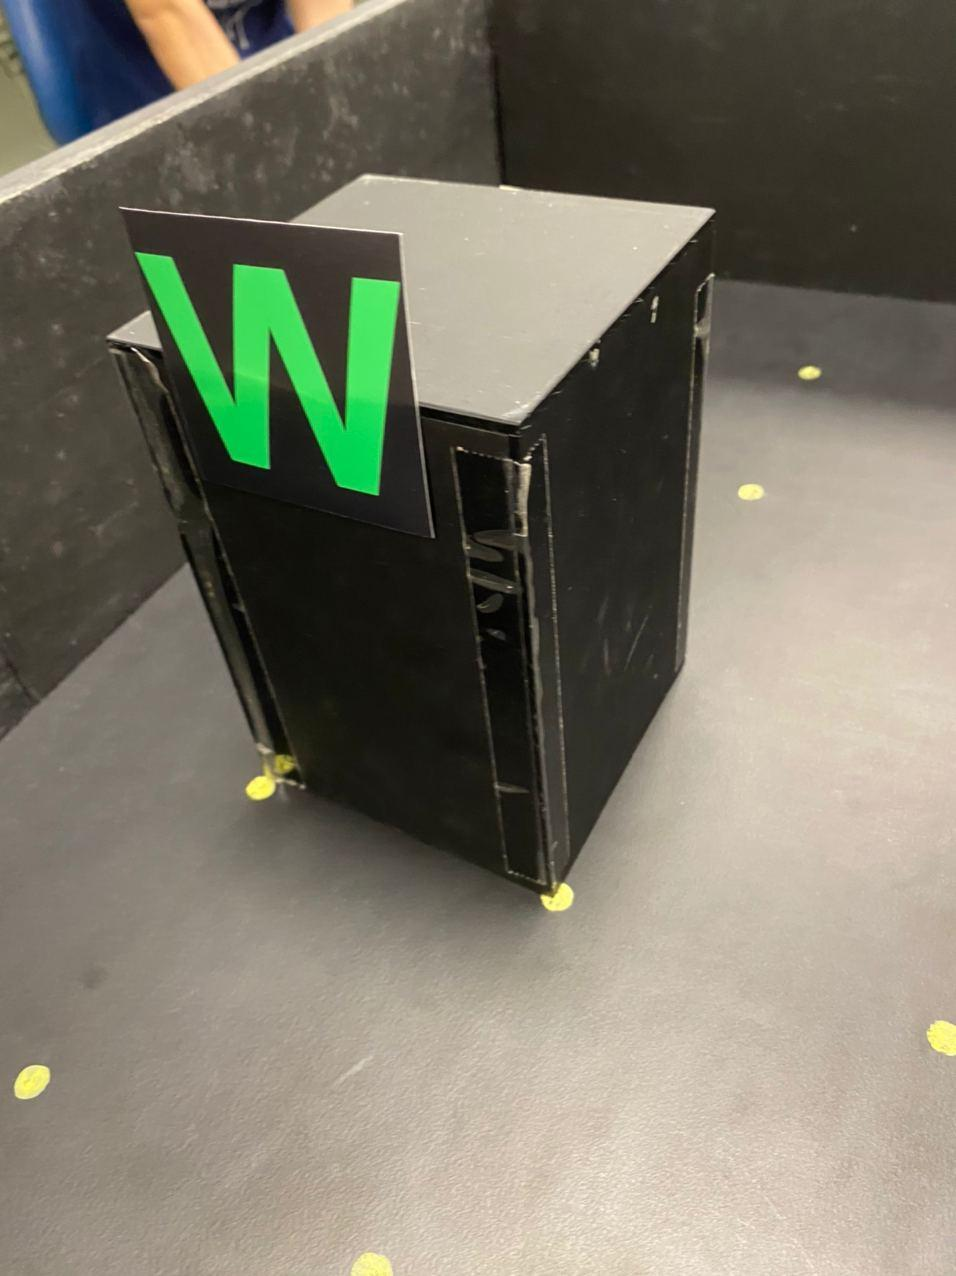w: (117, 222, 419, 498)
